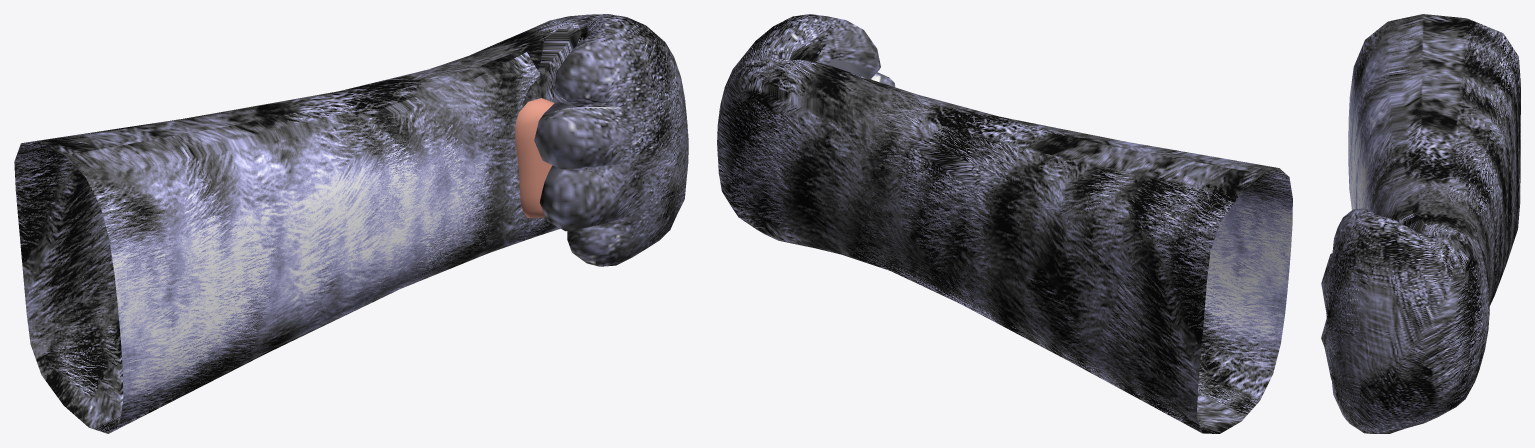
Rendered from rockBlack.glb.
3 views of the same model, side by side, from view 1: azimuth 30°, elevation 25°; view 2: azimuth 150°, elevation 25°; view 3: azimuth 270°, elevation 25° (orthographic). The views are drawn at different scales.
Parts seen in each view (by area): view 1: Rock_BLACK; view 2: Rock_BLACK; view 3: Rock_BLACK.
Part boxes in pixels (x1,y1,x2,y2): Rock_BLACK: [14, 14, 688, 433]; Rock_BLACK: [717, 14, 1292, 433]; Rock_BLACK: [1321, 14, 1520, 433].
Bounding box in the file's own units: 0.9217 × 0.4462 × 0.2995.
2 materials, 1 textured.
